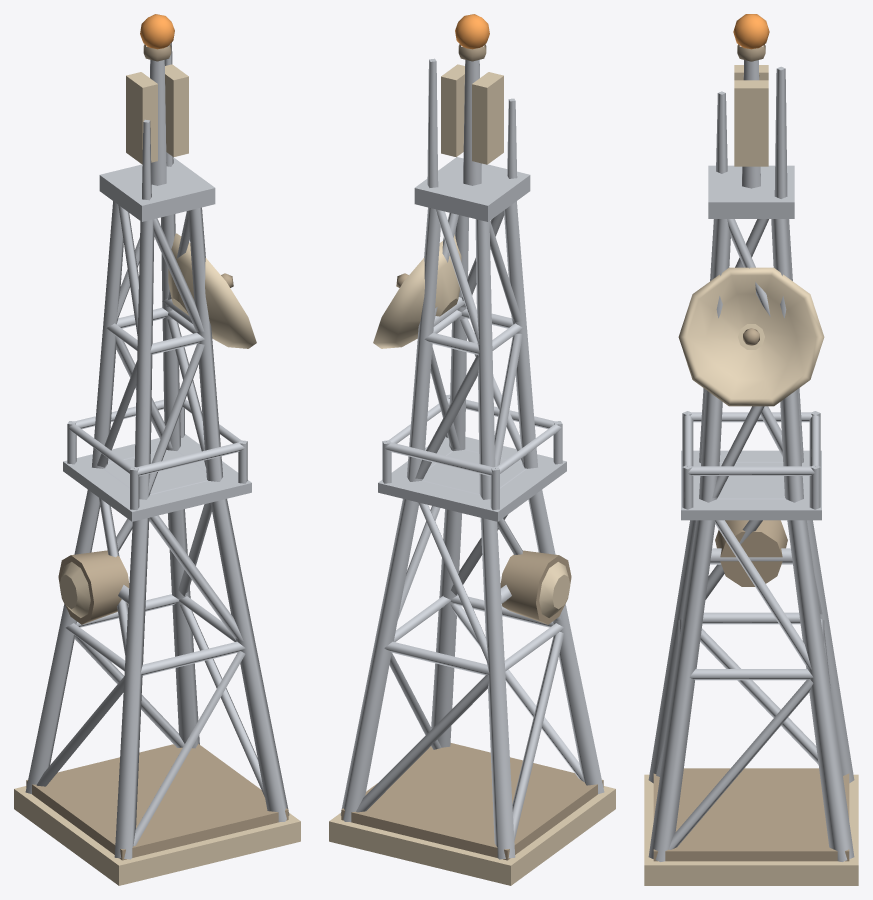
File: building.antenna.glb
3 views of the same model, side by side, from view 1: azimuth 30°, elevation 25°; view 2: azimuth 150°, elevation 25°; view 3: azimuth 270°, elevation 25° (orthographic).
Visible parts, largest first — view 1: Metal, PaintDark, Paint, Ember; view 2: Metal, PaintDark, Paint, Ember; view 3: Metal, Paint, PaintDark, Ember.
Boxes of the visible parts, left/top/right/bottom form: Metal: left=25, top=42, right=289, bottom=859; PaintDark: left=26, top=44, right=288, bottom=860; Paint: left=14, top=64, right=300, bottom=885; Ember: left=140, top=14, right=174, bottom=49; Metal: left=340, top=58, right=604, bottom=859; PaintDark: left=341, top=44, right=603, bottom=860; Paint: left=329, top=64, right=615, bottom=885; Ember: left=455, top=14, right=489, bottom=49; Metal: left=648, top=60, right=854, bottom=861; Paint: left=644, top=65, right=858, bottom=885; PaintDark: left=653, top=44, right=849, bottom=861; Ember: left=733, top=14, right=769, bottom=49.
Bounding box in the file's own units: 0.47 × 2 × 0.47.
